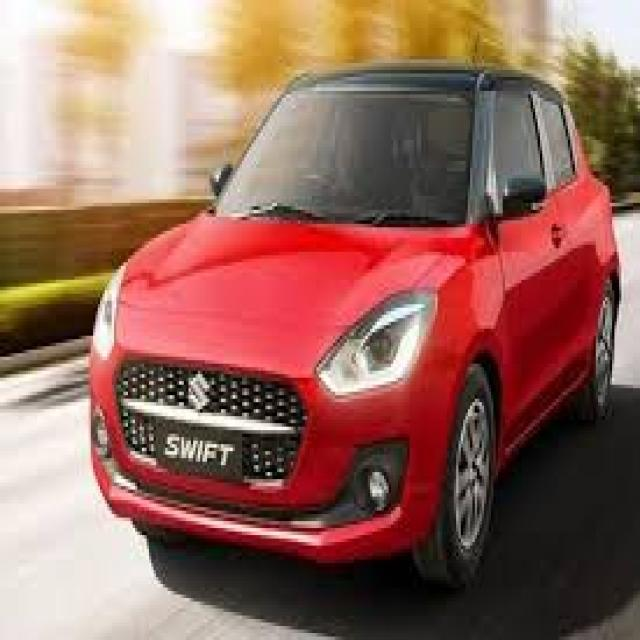Car: (90, 62, 620, 585)
